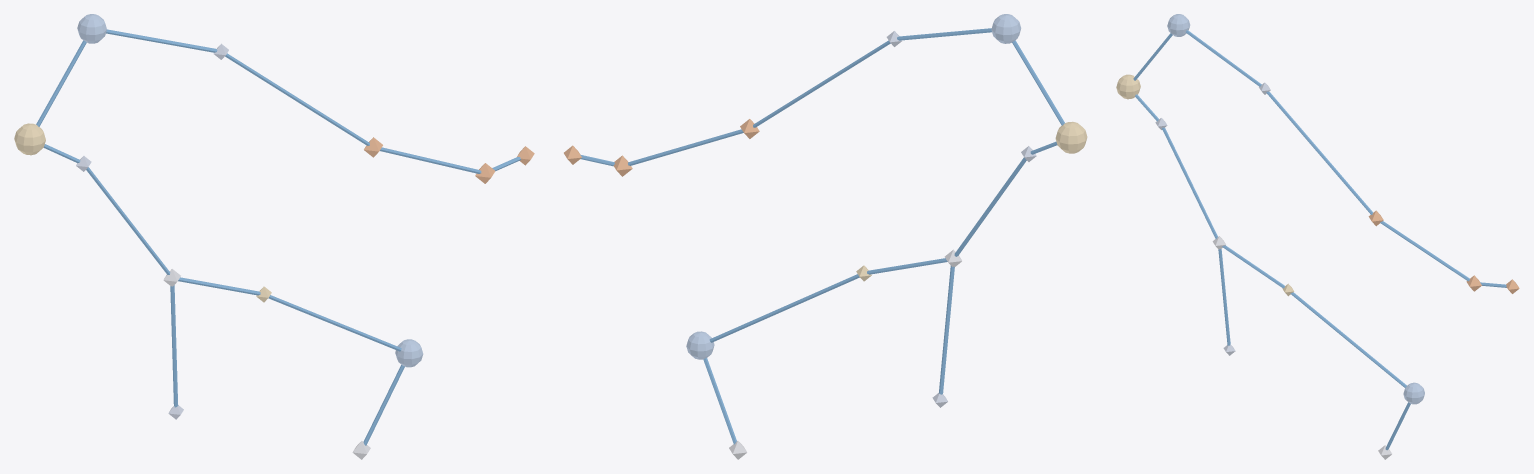
File: constellation-gem.glb
The picture shows the model from 3 angles, left to right: view 1: azimuth 30°, elevation 25°; view 2: azimuth 150°, elevation 25°; view 3: azimuth 330°, elevation 25°; orthographic projection. The views are drawn at different scales.
Size of the model in its own units: 2.23 by 2.09 by 0.1992.
